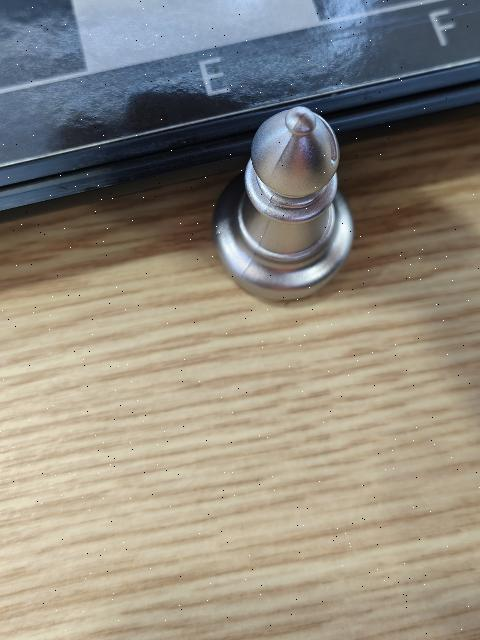white_bishop: (210, 103, 355, 298)
